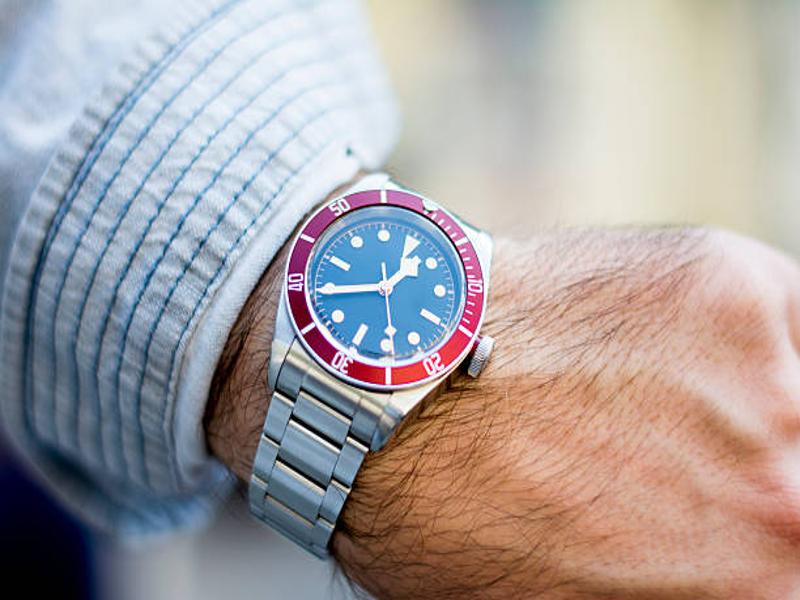watch: (243, 167, 503, 565)
